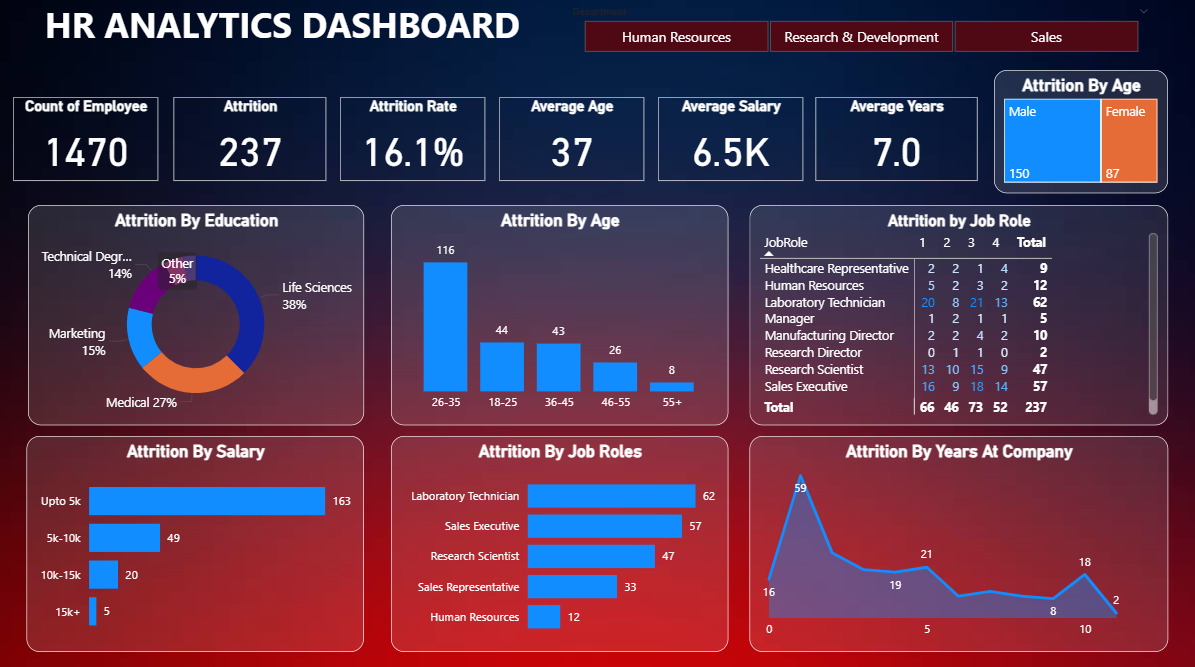

Layout of this report page (visuals, bound fields, positions):
{"tool":"powerbi","page":{"name":"Page 1","canvas":[1280,720],"ordinal":0},"visuals":[{"type":"card","title":"Count of Employee","fields":{"Values":["CountNonNull(HR_Analytics.EmpID)"]},"box":[19.2,108.6,155,89.5],"z":0},{"type":"card","title":"Attrition","fields":{"Values":["Sum(HR_Analytics.AttritionCount)"]},"box":[190.1,108.6,163,89.5],"z":1000},{"type":"card","title":"Attrition Rate","fields":{"Values":["HR_Analytics.AttritionRate"]},"box":[367.5,108.6,155,89.5],"z":2000},{"type":"card","title":"Average Age","fields":{"Values":["Avg(HR_Analytics.Age)"]},"box":[536.8,108.6,155,89.5],"z":3000},{"type":"card","title":"Average Salary","fields":{"Values":["Avg(HR_Analytics.MonthlyIncome)"]},"box":[706.2,108.6,155,89.5],"z":4000},{"type":"card","title":"Average Years","fields":{"Values":["Avg(HR_Analytics.YearsAtCompany)"]},"box":[873.9,108.6,172.5,89.5],"z":5000},{"type":"donutChart","title":"Attrition By Education","fields":{"Category":["HR_Analytics.EducationField"],"Y":["Sum(HR_Analytics.AttritionCount)"]},"box":[35.1,223.7,357.9,234.9],"z":6000},{"type":"columnChart","title":"Attrition By Age","fields":{"Category":["HR_Analytics.AgeGroup"],"Y":["Sum(HR_Analytics.AttritionCount)"]},"box":[421.8,223.7,359.5,234.9],"z":7000},{"type":"pivotTable","title":"Attrition by Job Role","fields":{"Rows":["HR_Analytics.JobRole"],"Columns":["HR_Analytics.JobSatisfaction"],"Values":["Sum(HR_Analytics.AttritionCount)"]},"box":[803.6,223.7,445.7,234.9],"z":8000},{"type":"barChart","title":"Attrition By Salary","fields":{"Category":["HR_Analytics.SalarySlab"],"Y":["Sum(HR_Analytics.AttritionCount)"]},"box":[33.6,469.7,359.5,230.1],"z":9000},{"type":"barChart","title":"Attrition By Job Roles","fields":{"Category":["HR_Analytics.JobRole"],"Y":["Sum(HR_Analytics.AttritionCount)"]},"box":[421.8,469.7,359.5,230.1],"z":10000},{"type":"areaChart","title":"Attrition By Years At Company","fields":{"Category":["HR_Analytics.YearsAtCompany"],"Y":["Sum(HR_Analytics.AttritionCount)"]},"box":[803.6,469.7,445.7,230.1],"z":11000},{"type":"treemap","title":"Attrition By Age","fields":{"Group":["HR_Analytics.Gender"],"Values":["Sum(HR_Analytics.AttritionCount)"]},"box":[1064,79.9,185.3,131],"z":12000},{"type":"slicer","fields":{"Values":["HR_Analytics.Department"]},"box":[602.3,6.4,639.1,60.7],"z":13000},{"type":"textbox","box":[33.3,0,545,66.7],"z":14000}]}

Visuals, with their boxes in screenshot pixels (x1, y1, x2, y2), scaled from the page's 1280x720 canvas onto the 1195x667 screenshot:
"Count of Employee" card: 18 101 163 184
"Attrition" card: 177 101 330 184
"Attrition Rate" card: 343 101 488 184
"Average Age" card: 501 101 646 184
"Average Salary" card: 659 101 804 184
"Average Years" card: 816 101 977 184
"Attrition By Education" donutChart: 33 207 367 425
"Attrition By Age" columnChart: 394 207 729 425
"Attrition by Job Role" pivotTable: 750 207 1166 425
"Attrition By Salary" barChart: 31 435 367 648
"Attrition By Job Roles" barChart: 394 435 729 648
"Attrition By Years At Company" areaChart: 750 435 1166 648
"Attrition By Age" treemap: 993 74 1166 195
slicer - HR_Analytics.Department: 562 6 1159 62
textbox: 31 0 540 62
